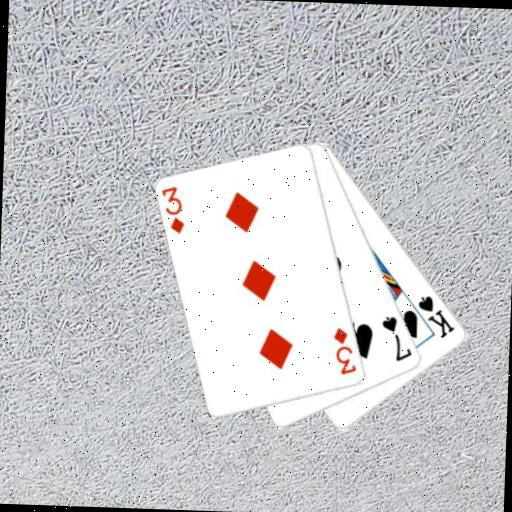3D: (329, 323, 360, 376), (157, 183, 188, 236)
7S: (377, 313, 415, 364)
KS: (414, 292, 458, 340)
